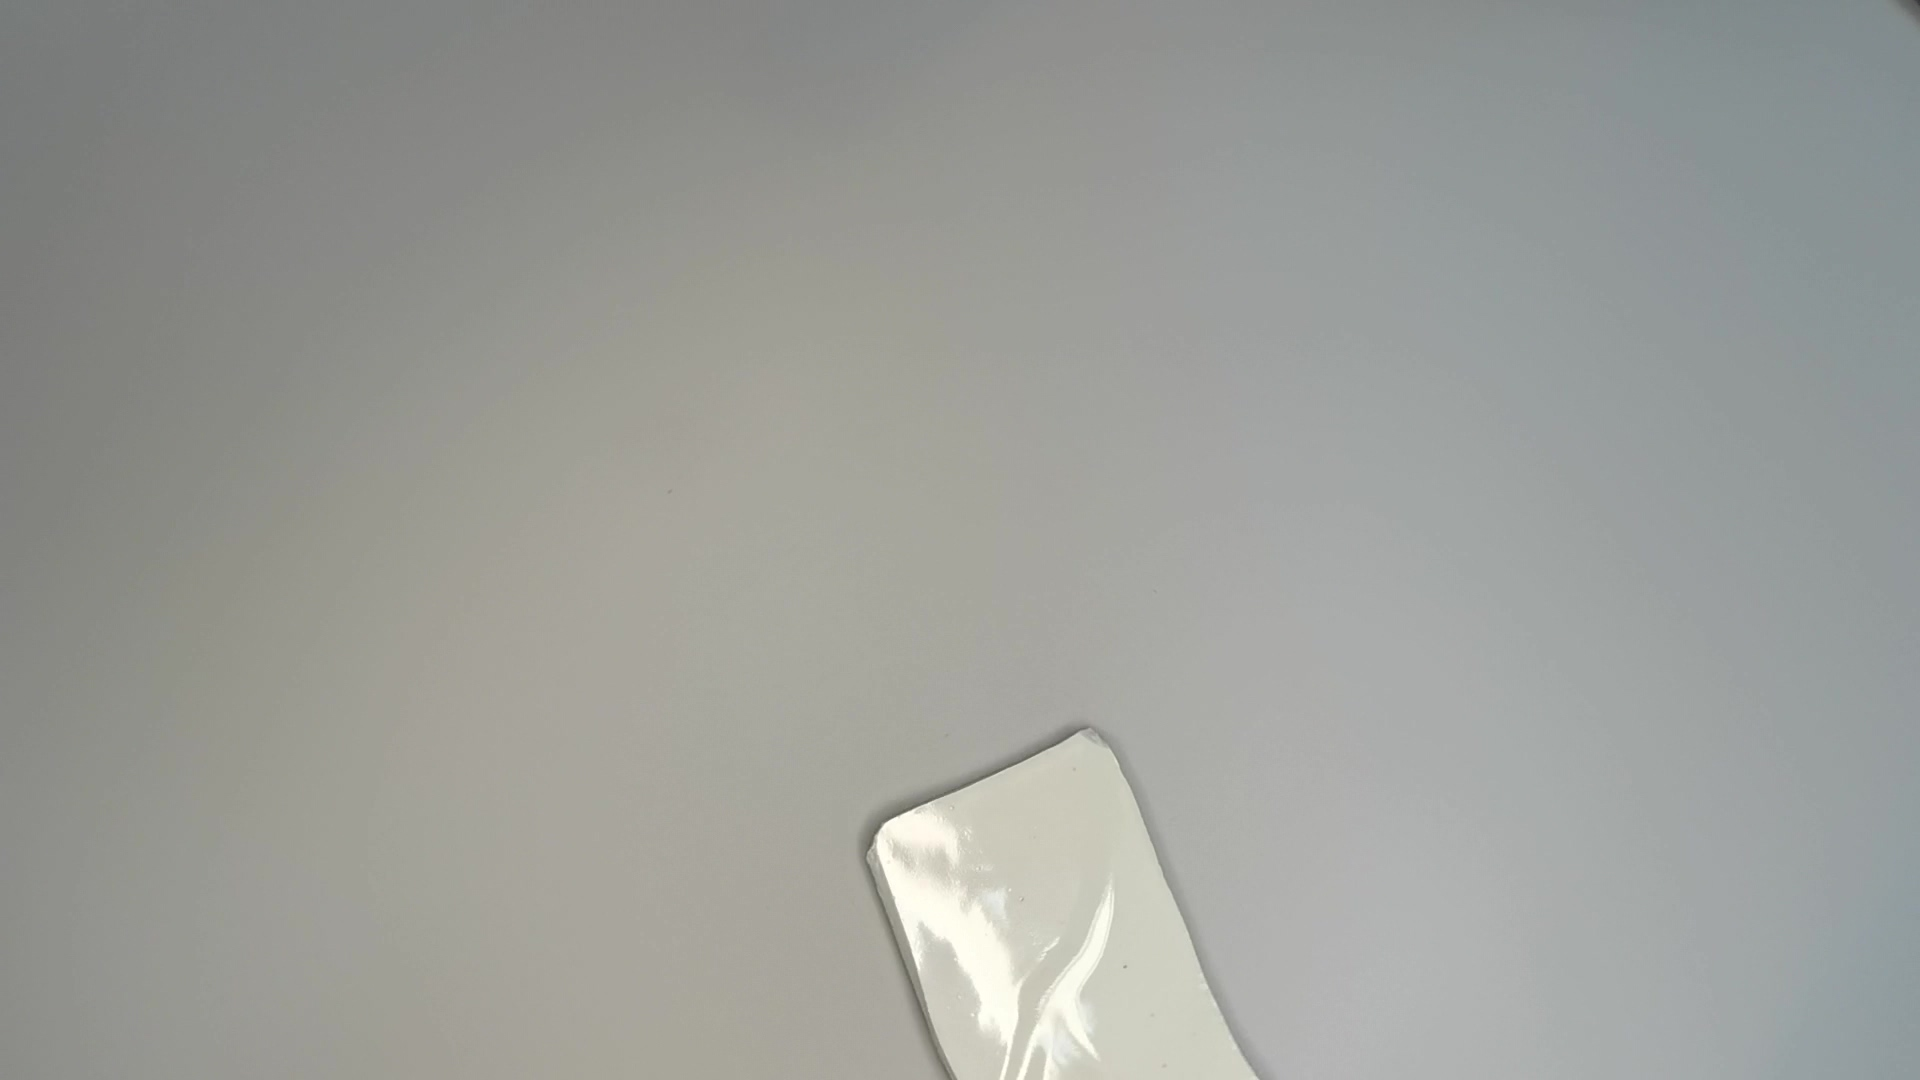ceramic: (860, 717, 1273, 1080)
